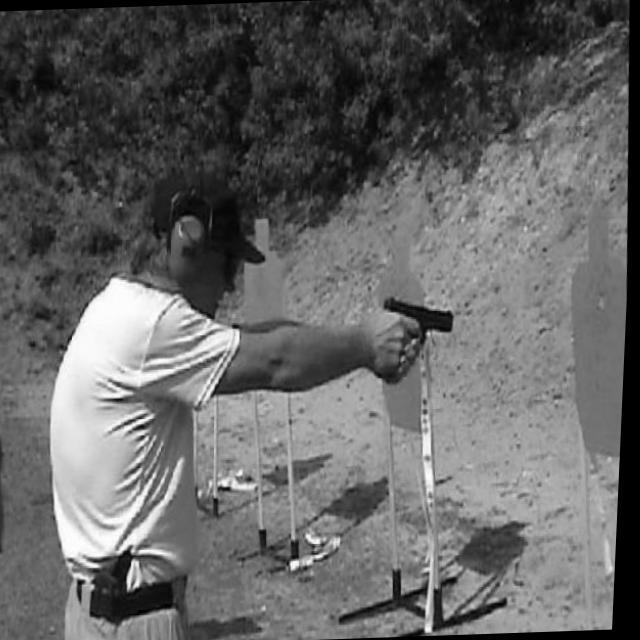weapon: (382, 292, 460, 351)
